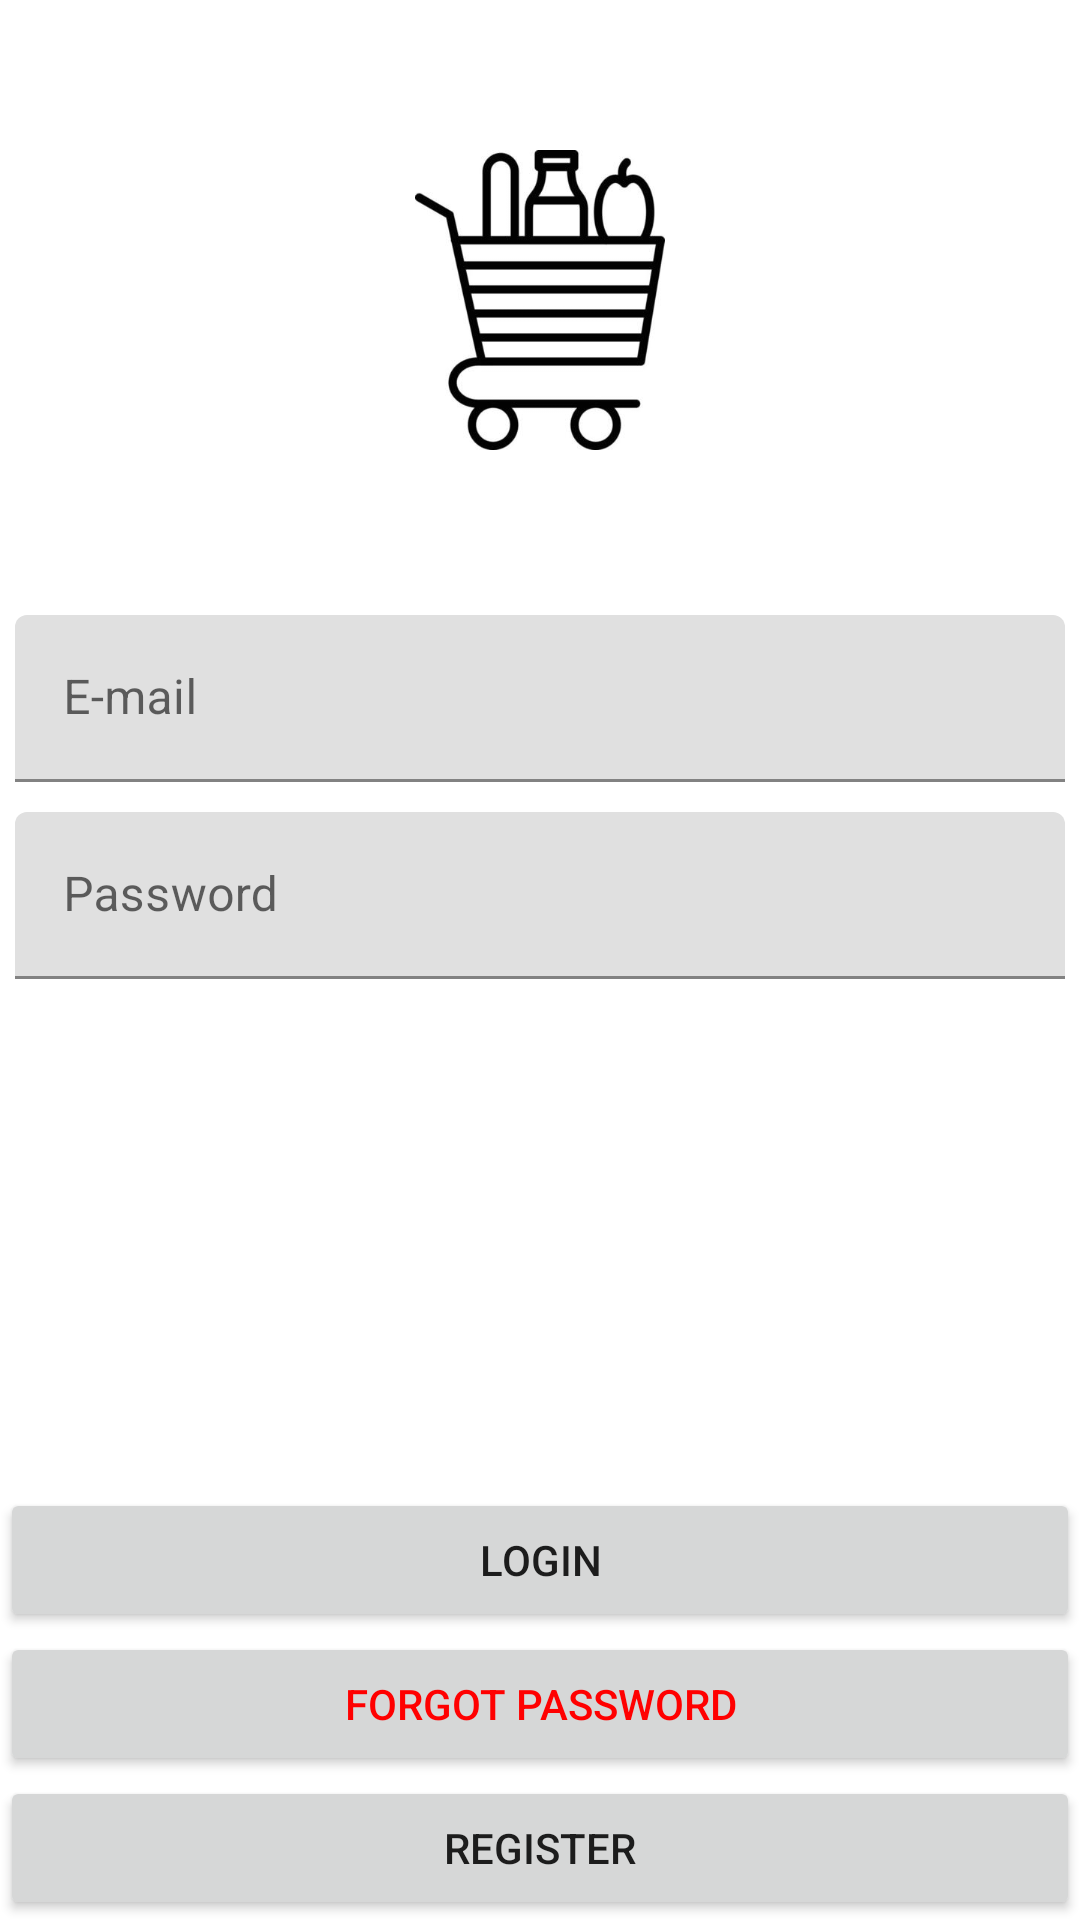

Screen size 1080px x 1920px. Icon name, then its box in pixels as (x1, y1, x2, y2):
cart: (415, 150, 665, 450)
